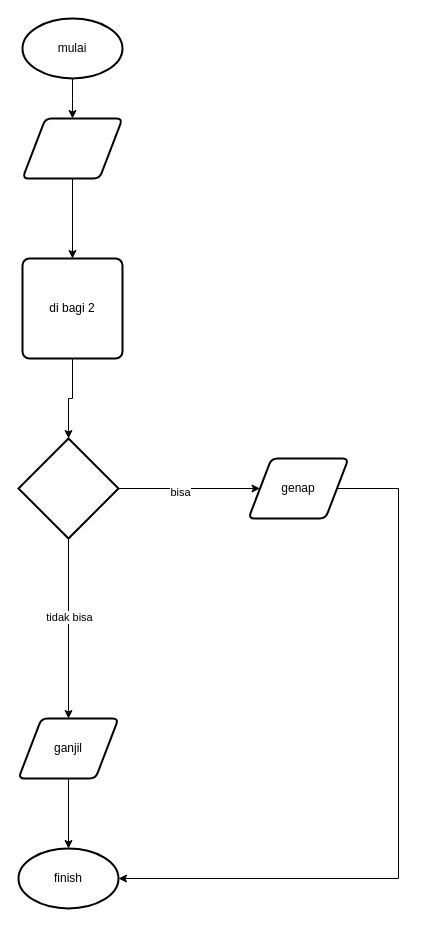
The diagram is 424 pixels wide and 926 high, and some of its shapes have lost their labels. The shapes that lost their labels are listed below. From the top down, each one's centre as x and y in pixels, then its label:
At point (72, 148): "menetapkan bilangan ganjil\genap".
At point (68, 488): "bilangan dibagi dengan 2".
